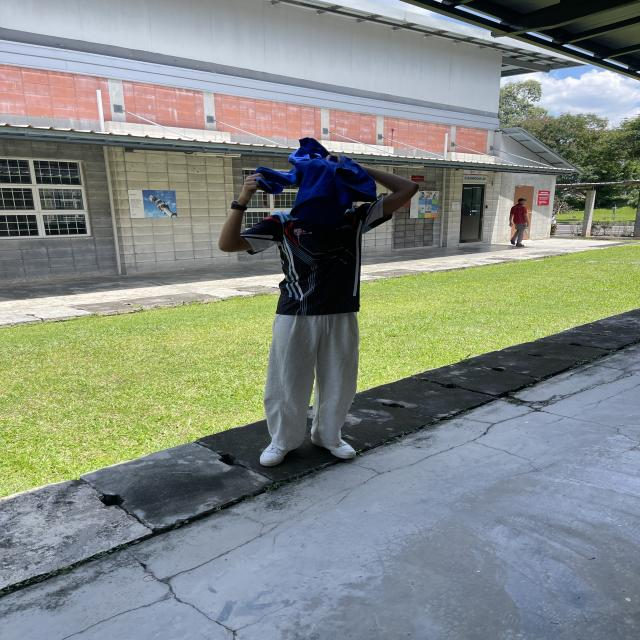person_without_labcoat: (219, 139, 418, 467)
